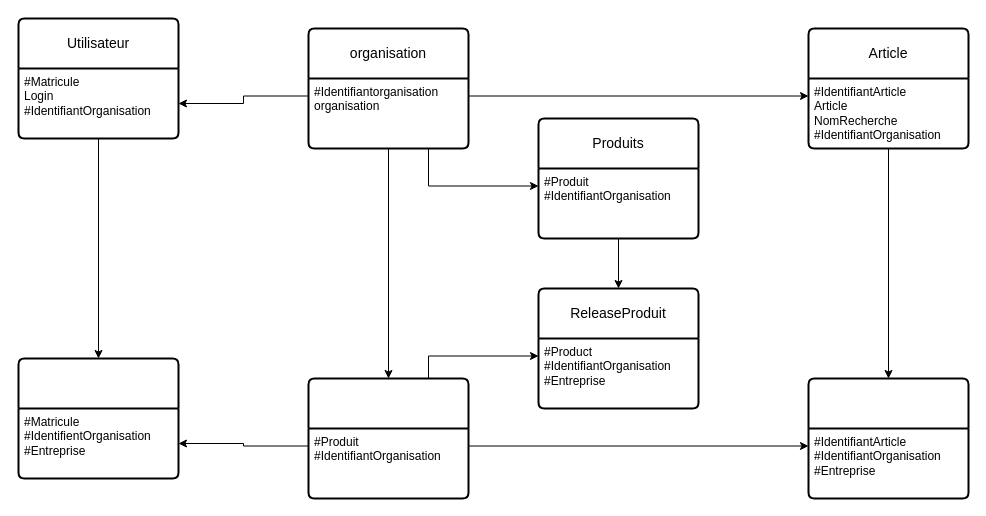
This 986x516 diagram has some shape labels left out. The box of each missing label's shape, as (x1, y1, x2, y2) in pixels:
Entreprise: (307, 377, 469, 499)
ReleseArticle: (807, 377, 969, 499)
Utilisateur-Entreprise: (17, 357, 179, 479)
